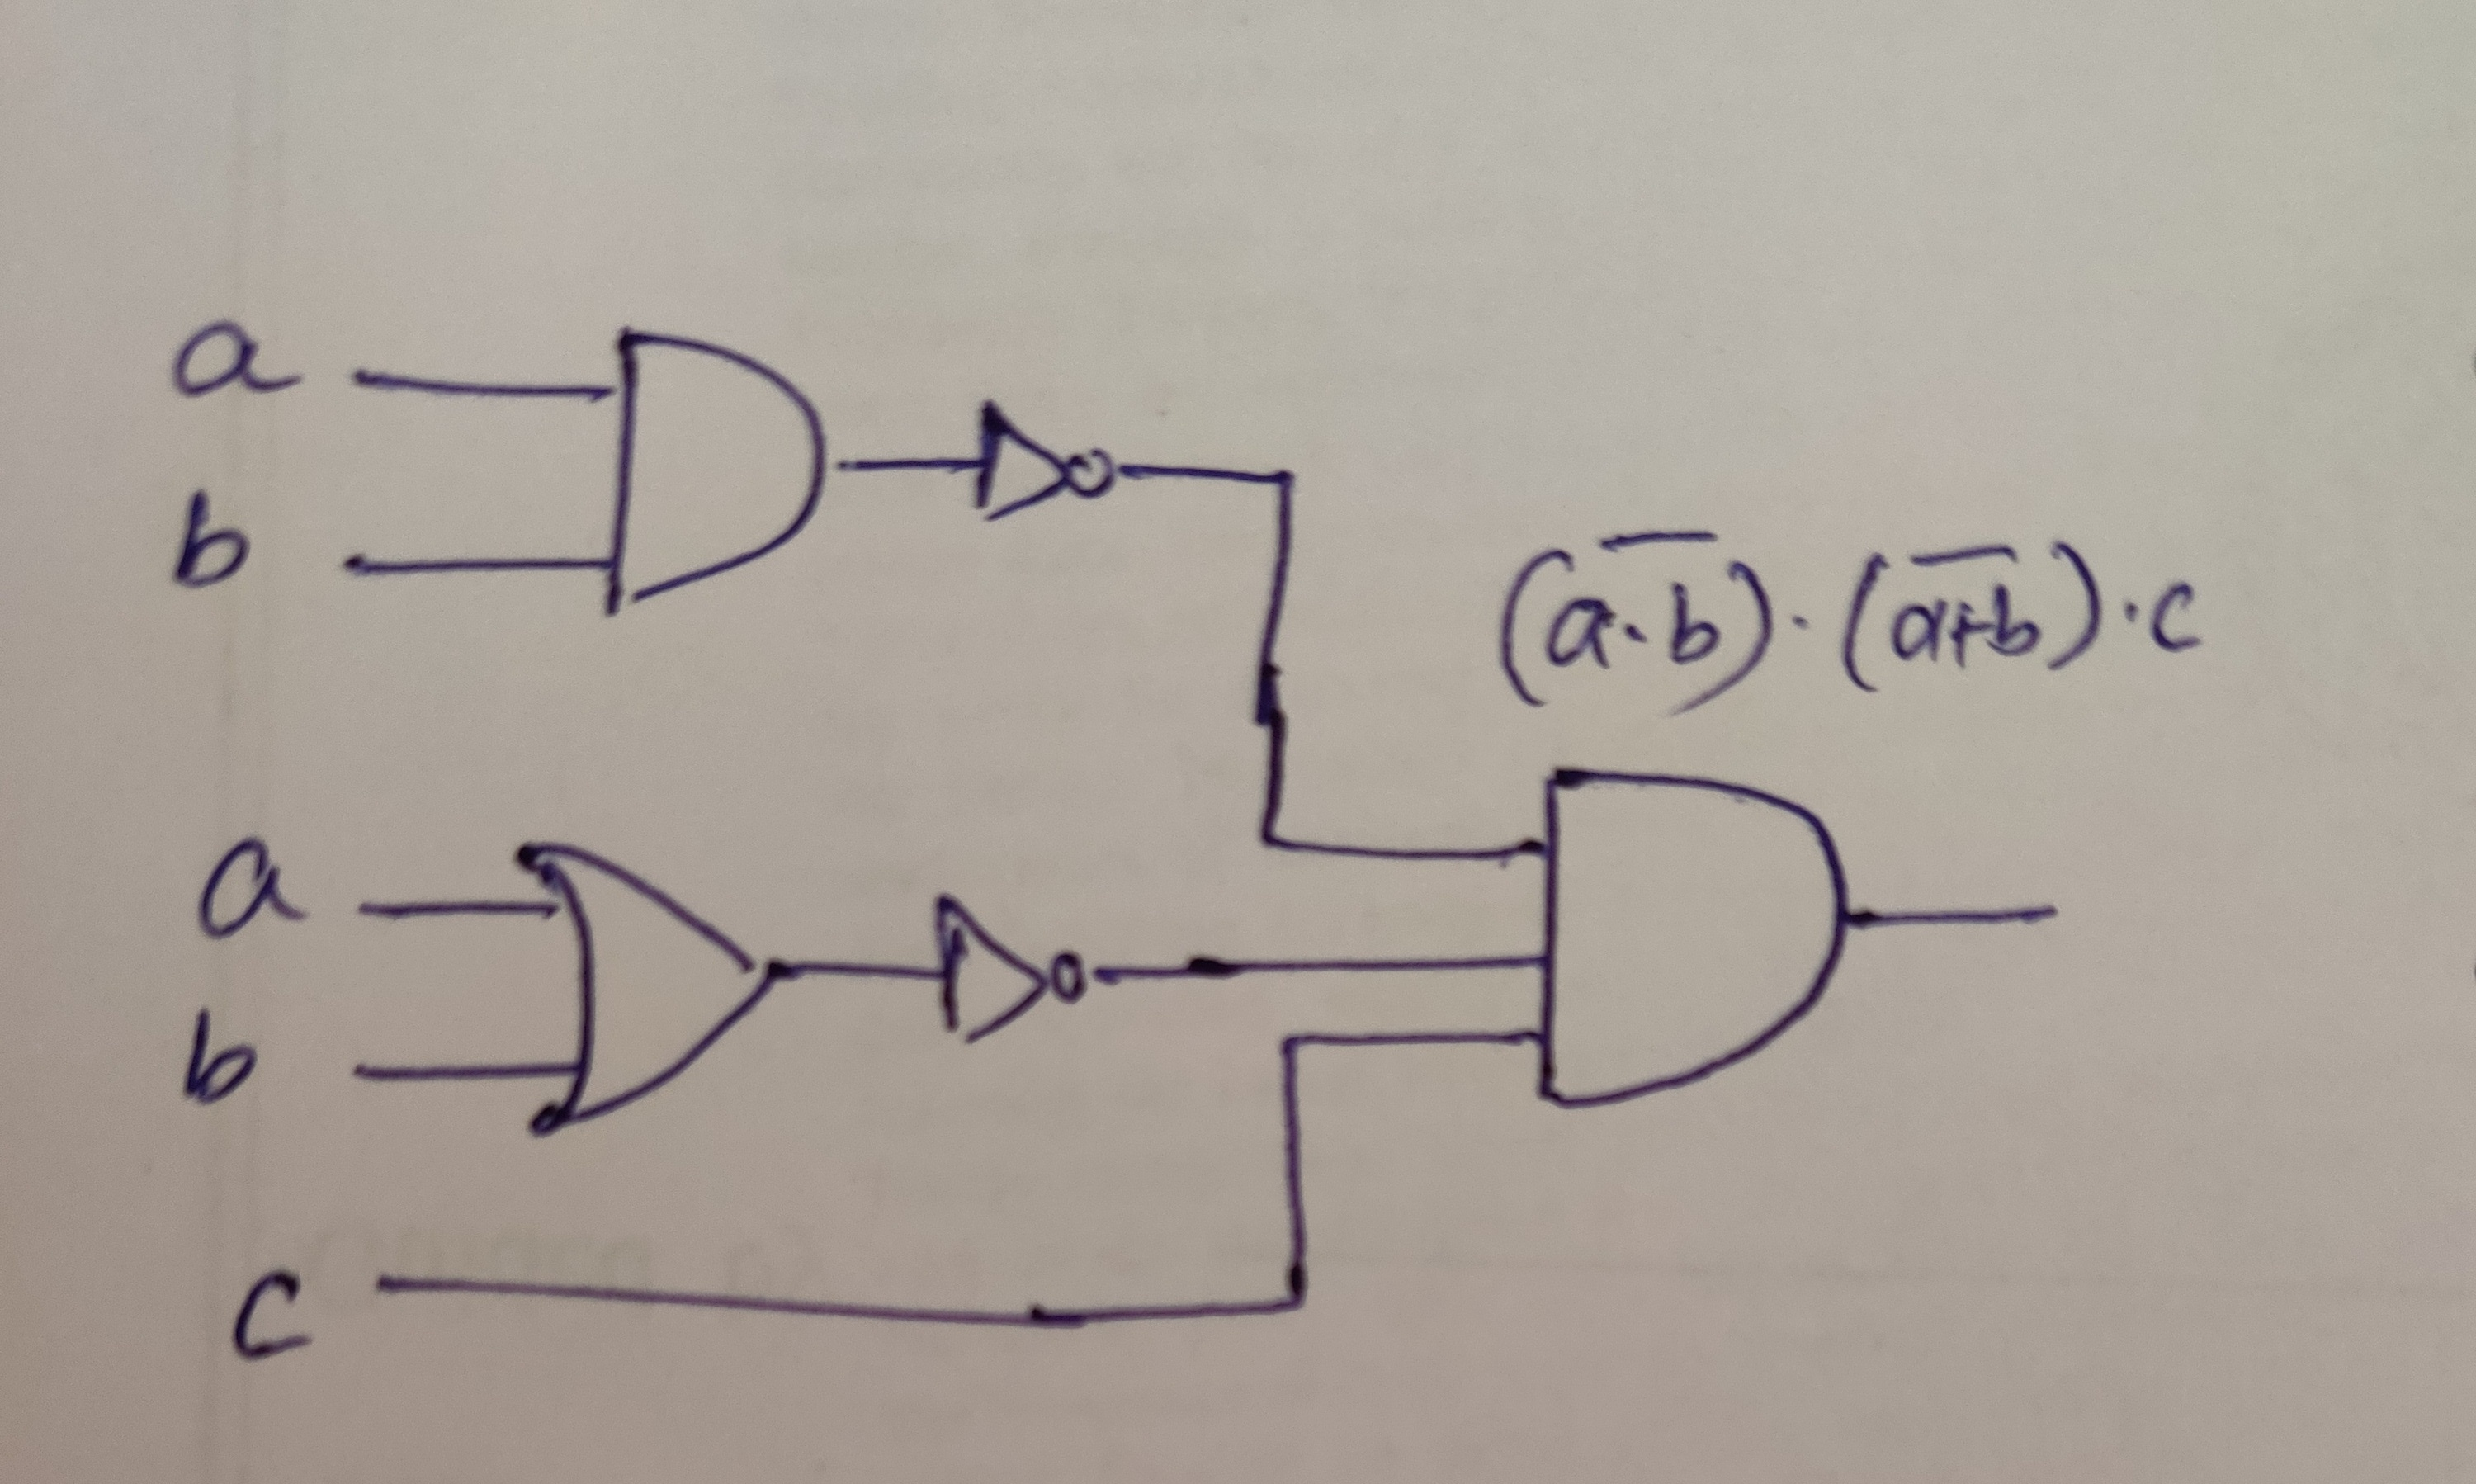and: (1503, 730, 1886, 1154), (574, 283, 846, 668)
not: (901, 869, 1143, 1095), (950, 362, 1137, 574)
or: (498, 797, 809, 1173)
